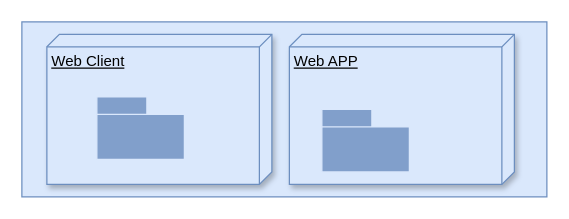
Image size: 569x219. Some labels were removed from this diagram. The centre of each missing label's shape, as x and y in pixels:
React: (x=140, y=127)
UI: (x=365, y=140)
